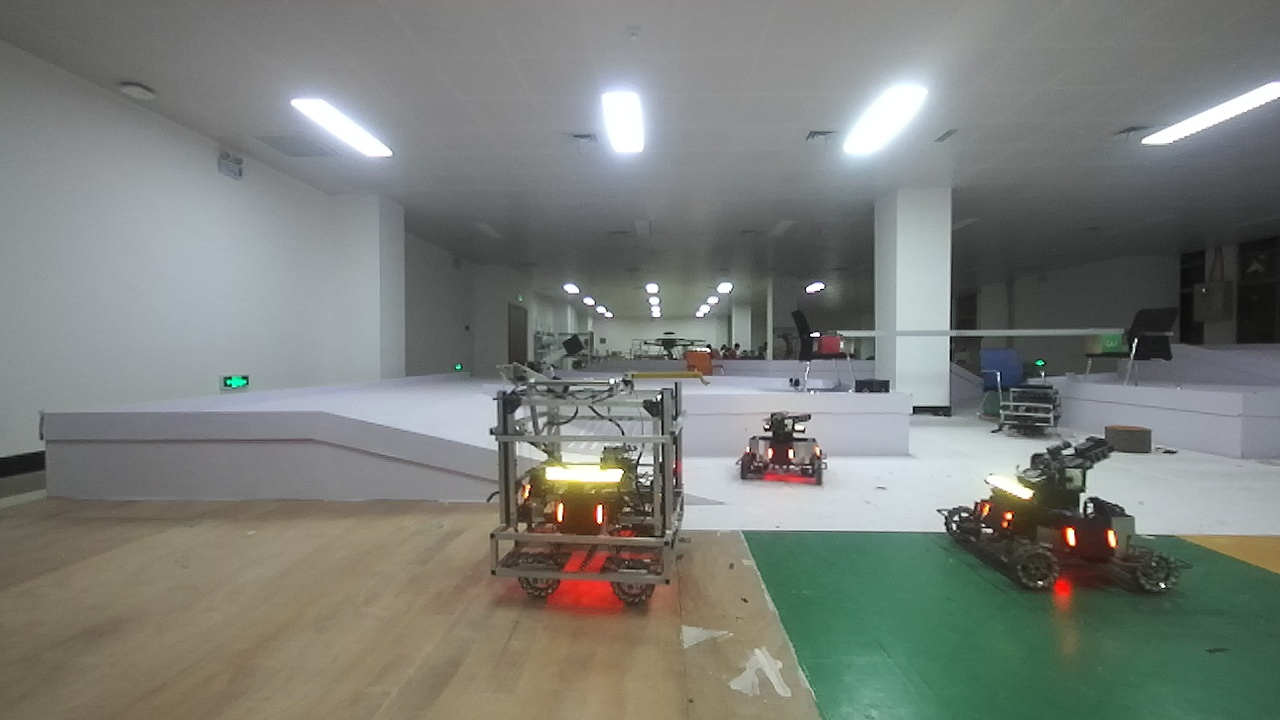car: (490, 364, 690, 615), (947, 441, 1183, 592), (743, 403, 835, 483)
